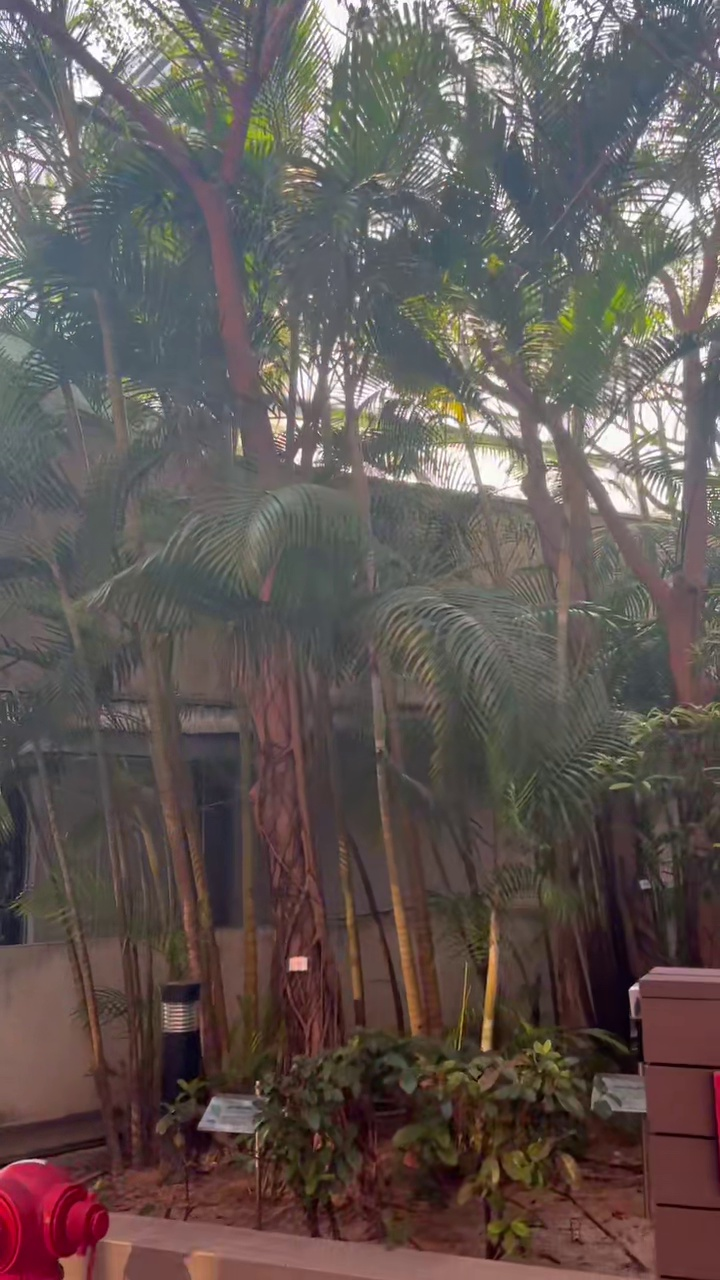Ficus benjamina: (8, 0, 343, 1057)
